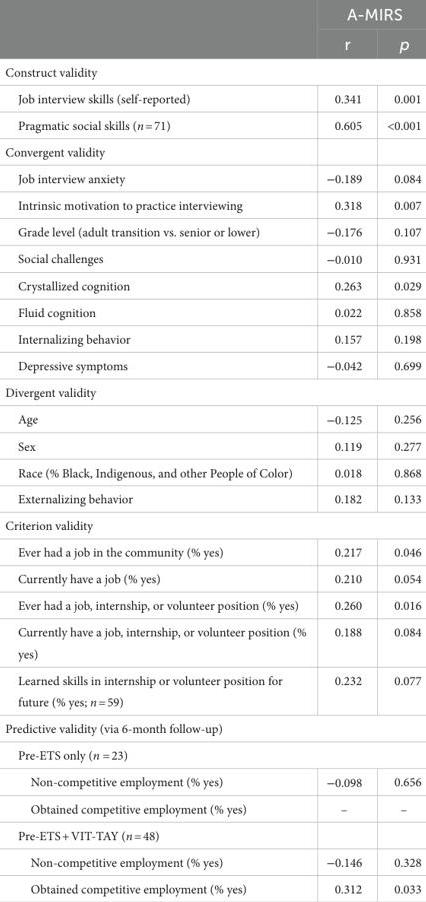table: (4, 5, 420, 897)
table column: (4, 5, 315, 897), (315, 5, 374, 897), (374, 5, 420, 897)
table column header: (4, 5, 420, 57)
table projected row header: (4, 57, 420, 85), (4, 741, 420, 768), (4, 821, 420, 848), (4, 138, 420, 164), (4, 379, 420, 405), (4, 512, 420, 538), (4, 715, 420, 741)
table row: (4, 666, 420, 715), (4, 618, 420, 666), (4, 28, 420, 57), (4, 57, 420, 85), (4, 164, 420, 192), (4, 351, 420, 379), (4, 111, 420, 138), (4, 218, 420, 245), (4, 245, 420, 272), (4, 298, 420, 325), (4, 405, 420, 432), (4, 432, 420, 459), (4, 485, 420, 512), (4, 538, 420, 565), (4, 565, 420, 592), (4, 741, 420, 768), (4, 768, 420, 795), (4, 821, 420, 848), (4, 848, 420, 875), (4, 85, 420, 111), (4, 138, 420, 164), (4, 192, 420, 218), (4, 272, 420, 298), (4, 325, 420, 351), (4, 379, 420, 405), (4, 459, 420, 485), (4, 512, 420, 538), (4, 592, 420, 618), (4, 715, 420, 741), (4, 795, 420, 821), (4, 5, 420, 28), (4, 875, 420, 897)
table spanning cell: (315, 5, 420, 28)
